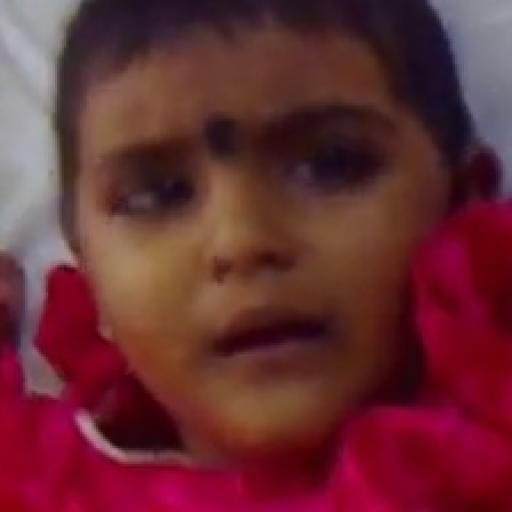Autism: (60, 8, 512, 464)
